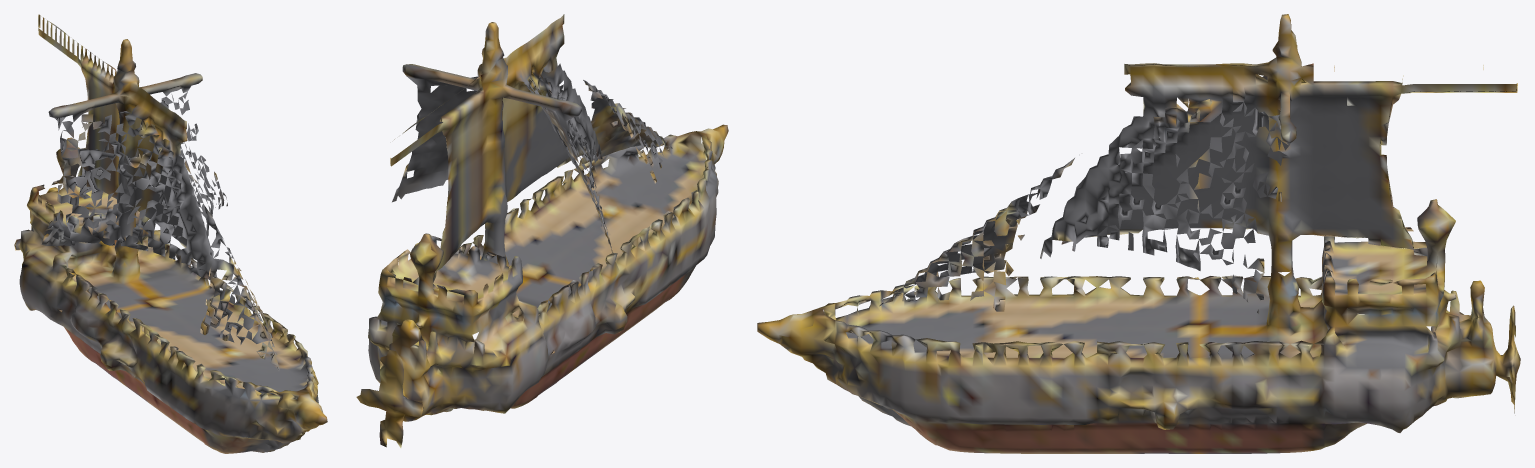
Rendered from mon3d_lo.glb.
3 renders of one model, left to right at view 1: azimuth 30°, elevation 25°; view 2: azimuth 150°, elevation 25°; view 3: azimuth 270°, elevation 25°, orthographic. The views are drawn at different scales.
Bounding box in the file's own units: 0.7425 × 1.19 × 1.95.
